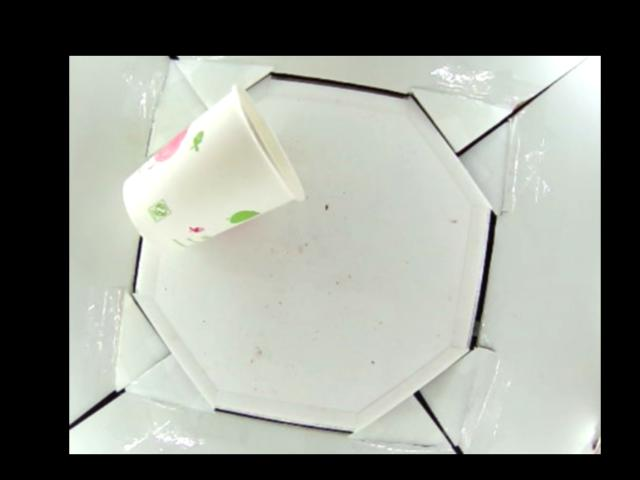Cup: (119, 86, 309, 249)
